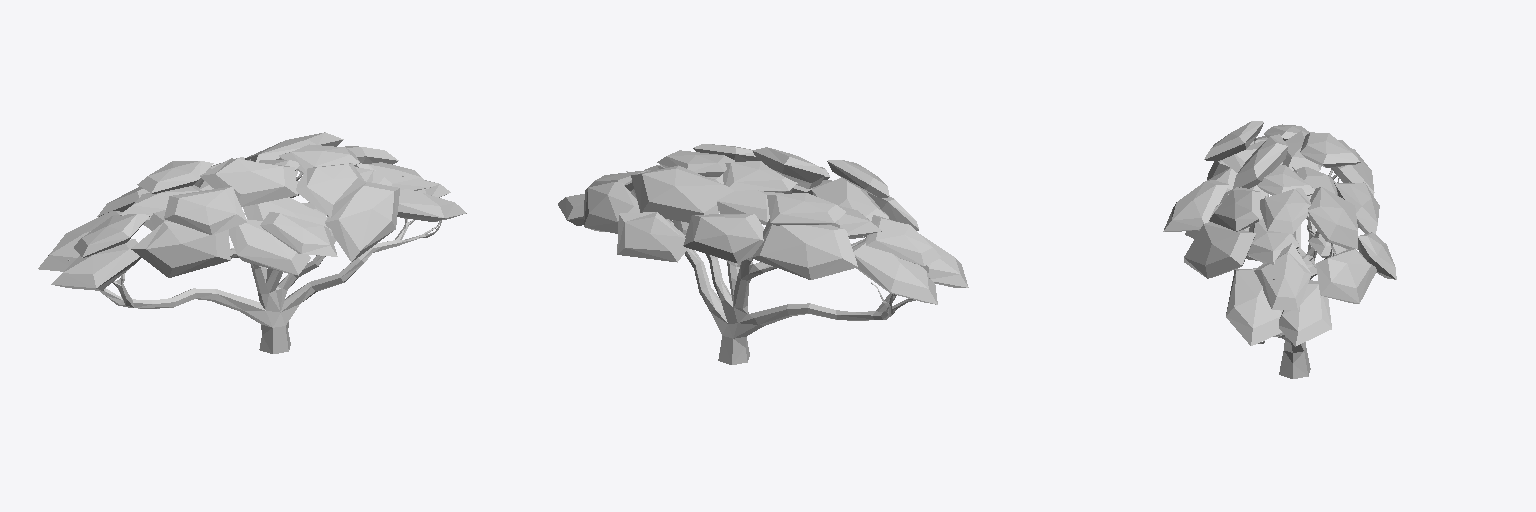
The model's file is tree.obj.
The picture shows the model from 3 angles: view 1: azimuth 30°, elevation 25°; view 2: azimuth 150°, elevation 25°; view 3: azimuth 270°, elevation 25°; orthographic projection.
Parts seen in each view (by area): view 1: Tree_Type0_04_mesh_Tree_Type0_04_mesh; view 2: Tree_Type0_04_mesh_Tree_Type0_04_mesh; view 3: Tree_Type0_04_mesh_Tree_Type0_04_mesh.
Part boxes in pixels (left/top/right/bottom): Tree_Type0_04_mesh_Tree_Type0_04_mesh: left=38, top=132, right=466, bottom=353; Tree_Type0_04_mesh_Tree_Type0_04_mesh: left=558, top=144, right=968, bottom=364; Tree_Type0_04_mesh_Tree_Type0_04_mesh: left=1163, top=121, right=1396, bottom=378.
Size of the model in its own units: 5.47 by 2.66 by 2.73.